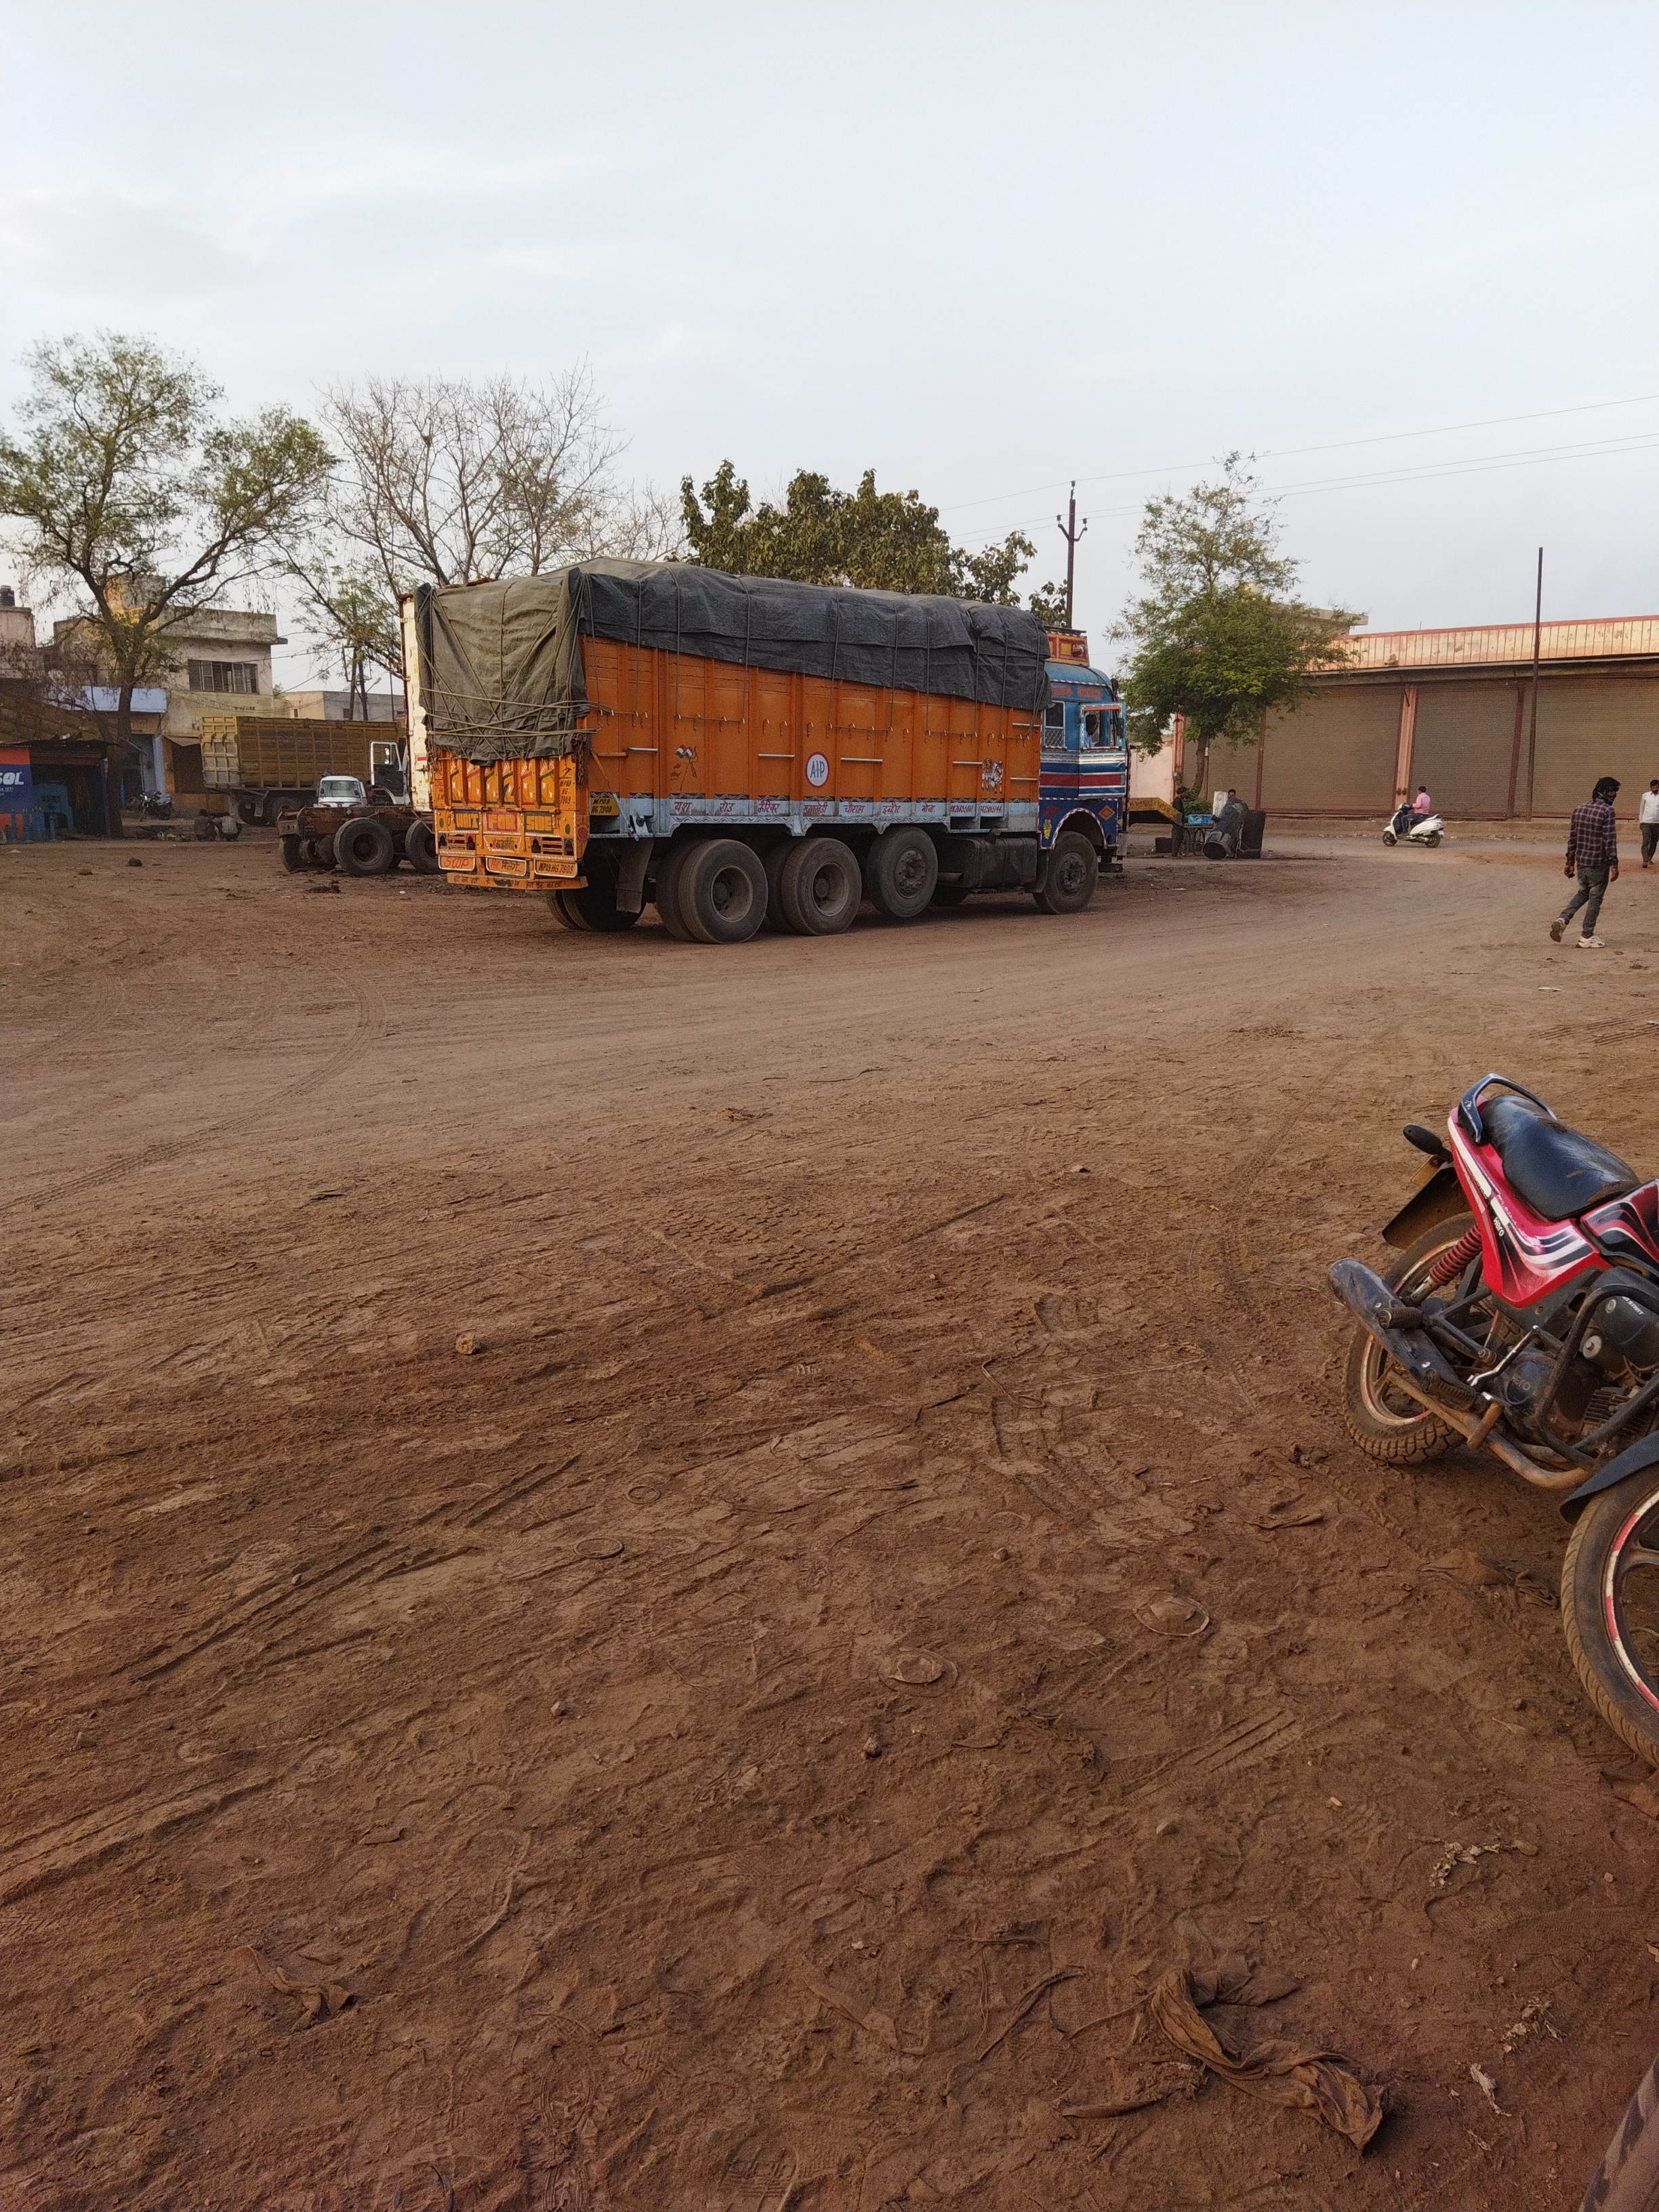truck: (411, 554, 1134, 946), (197, 709, 408, 826)
